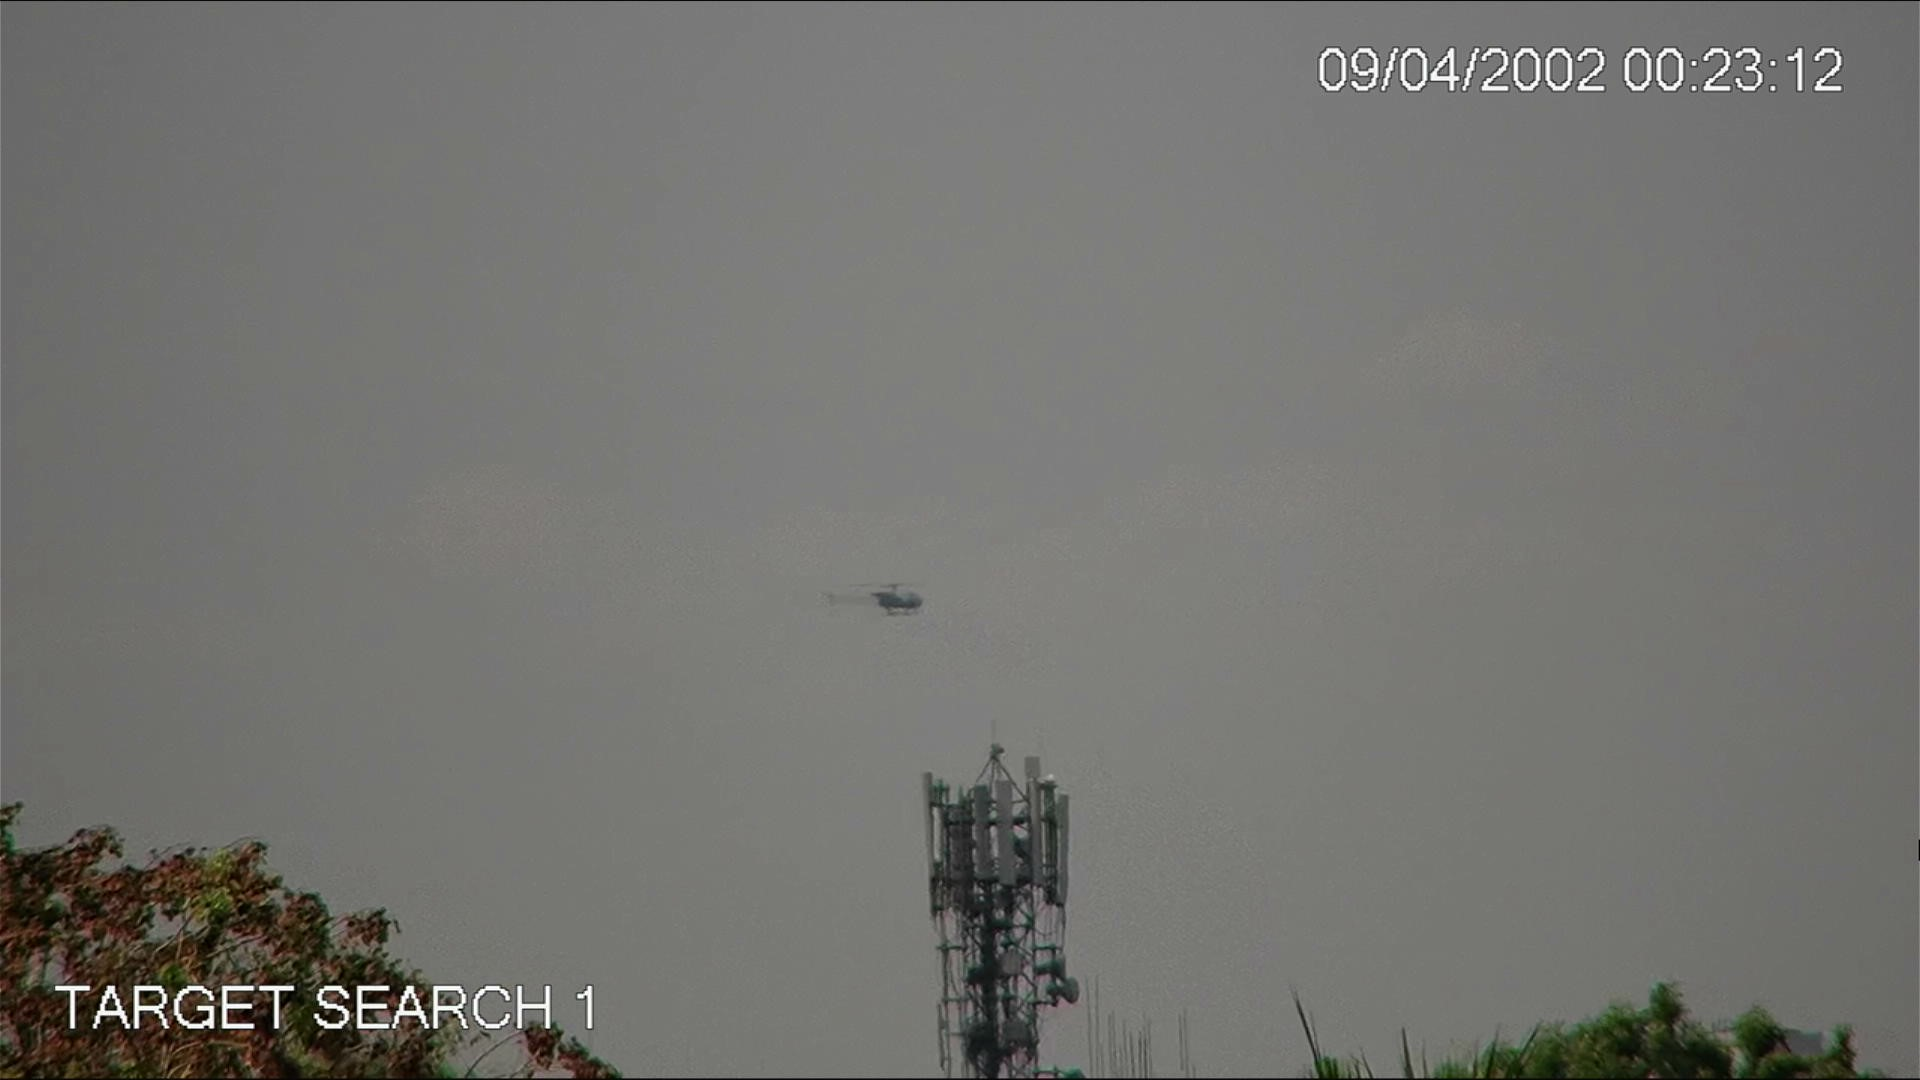SU_30: (822, 574, 923, 617)
